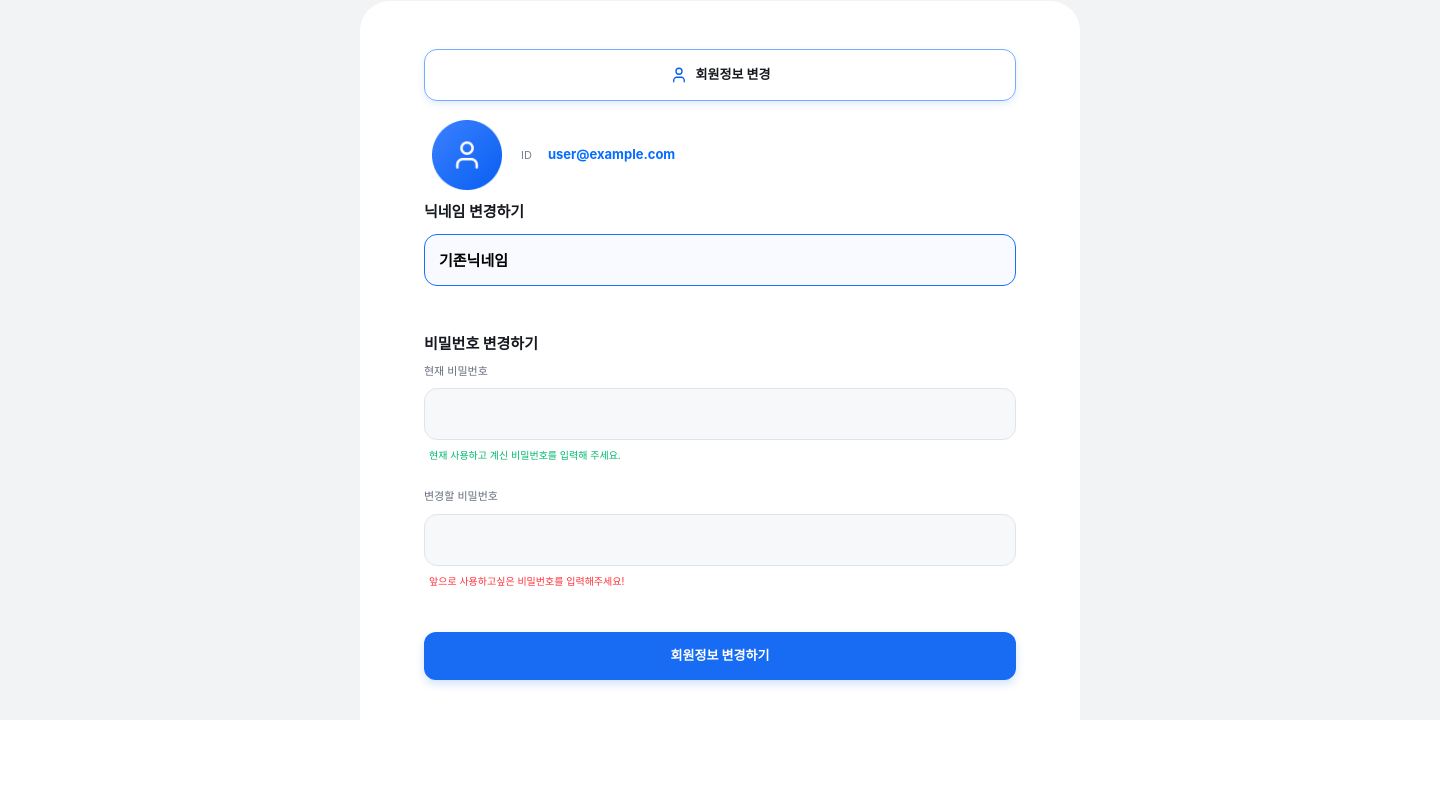
Test case: ProfileEditView › 유효하지 않은 폼의 안내 메시지를 표시한다
Replace the text in the field with id "nickname" with "한" at (720, 260), box [424,234,1016,286]
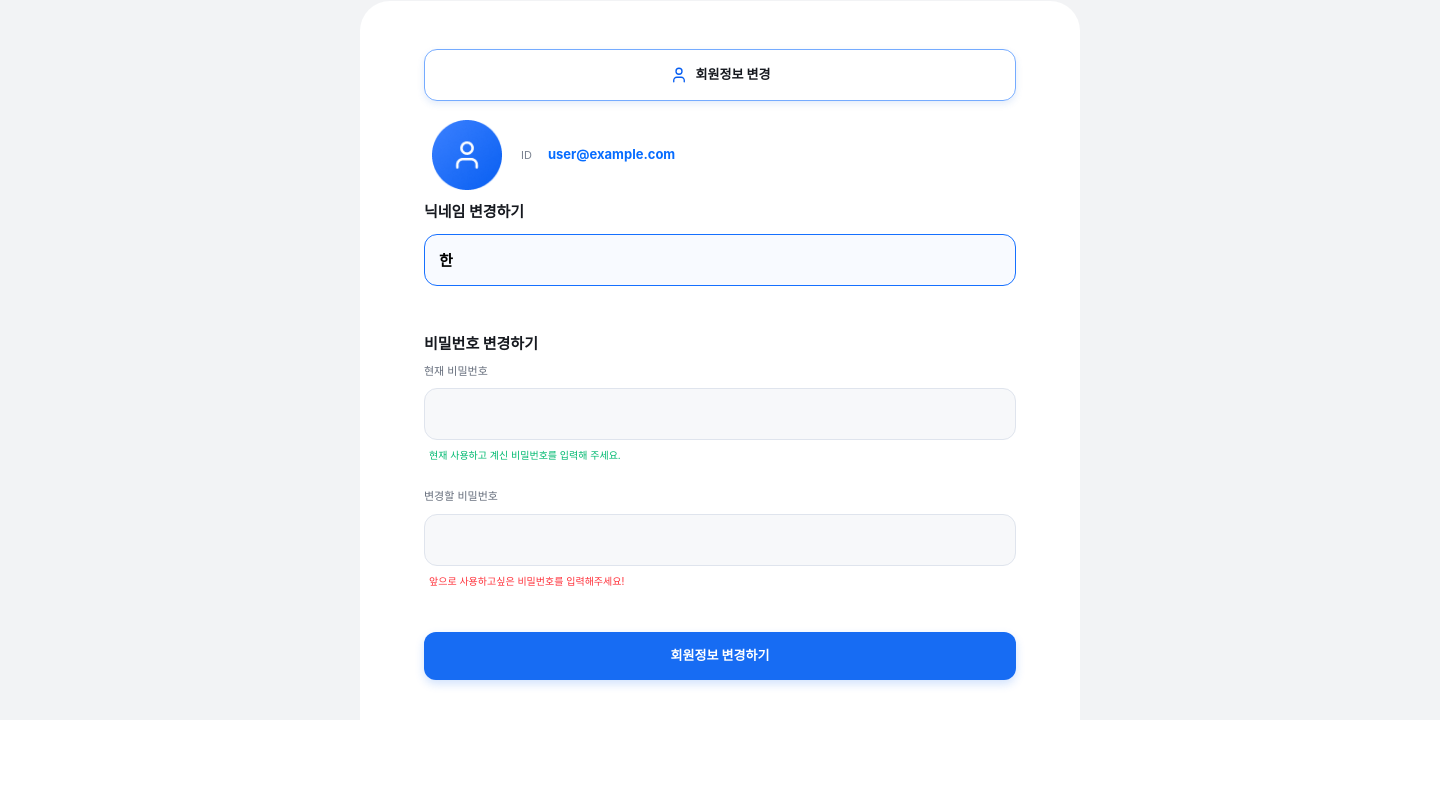
Submit the form, box [424,201,1016,680]
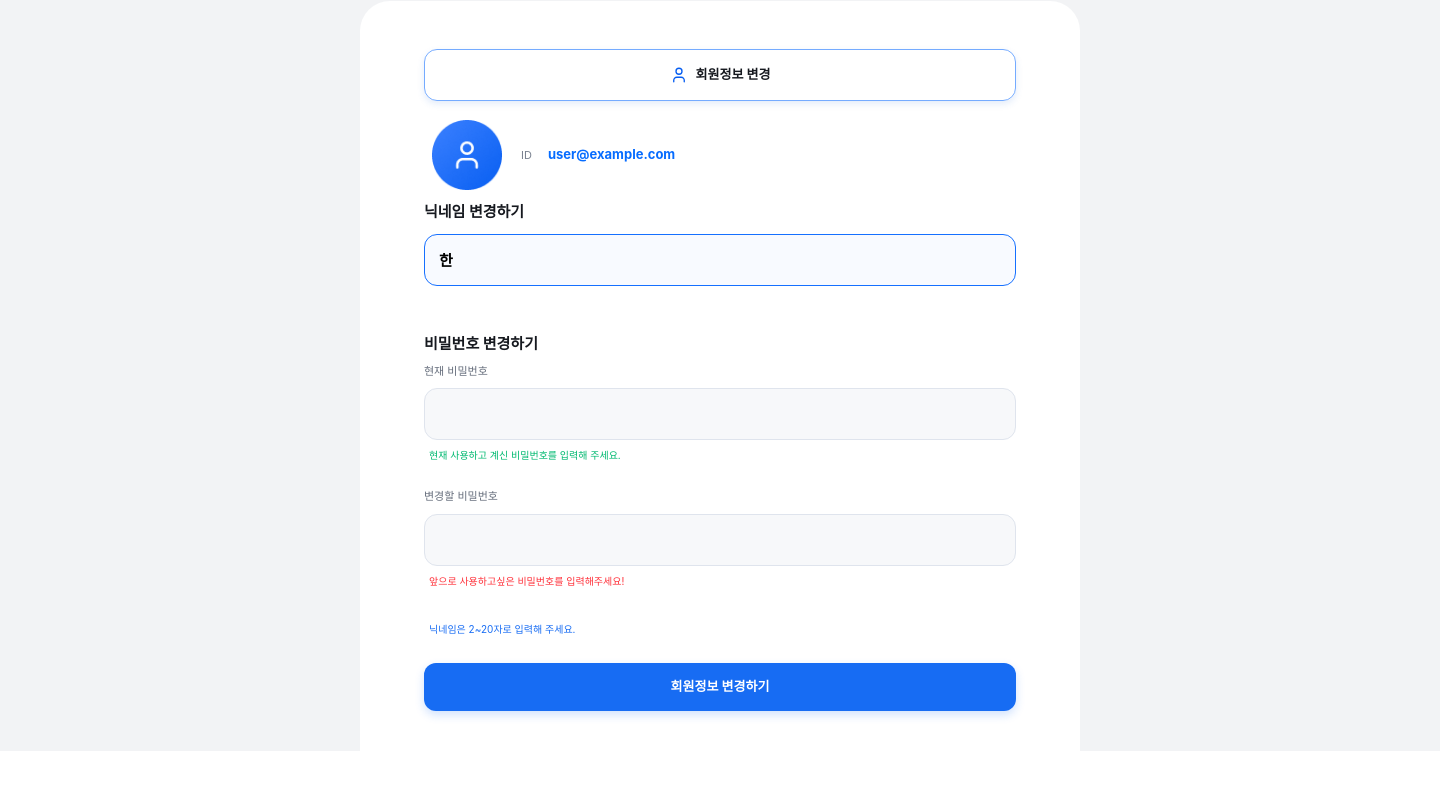
Expected: the message "닉네임은 2~20자로 입력해 주세요." is shown, [429,622,576,634]
